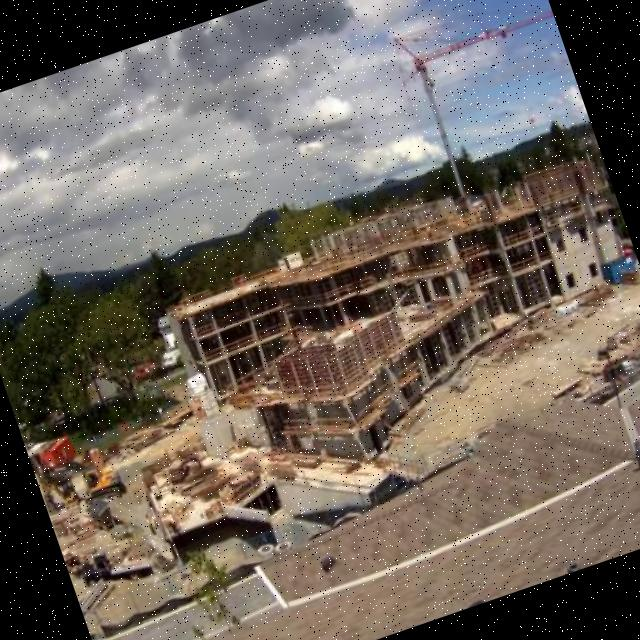Excavator: (31, 436, 125, 518)
